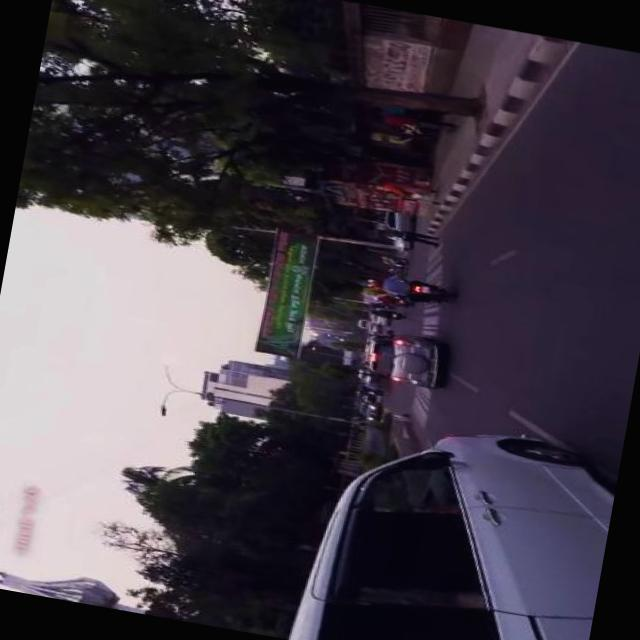car: (358, 323, 444, 388), (374, 208, 410, 250), (354, 396, 378, 418), (366, 312, 386, 323)
motorcycle: (388, 275, 454, 305), (375, 306, 402, 318), (386, 294, 406, 306)
truck: (283, 396, 619, 640)
